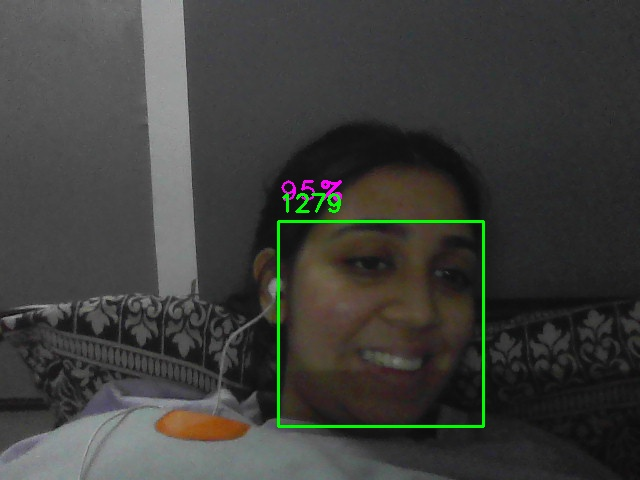real: (278, 221, 484, 427)
